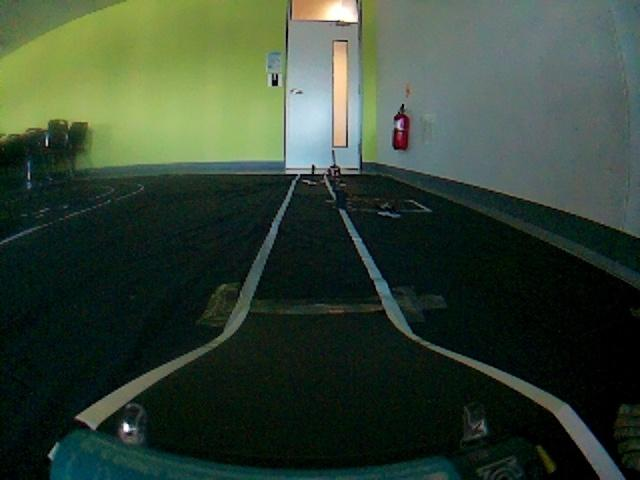go: (213, 206, 410, 316)
hill_down: (43, 322, 619, 480)
